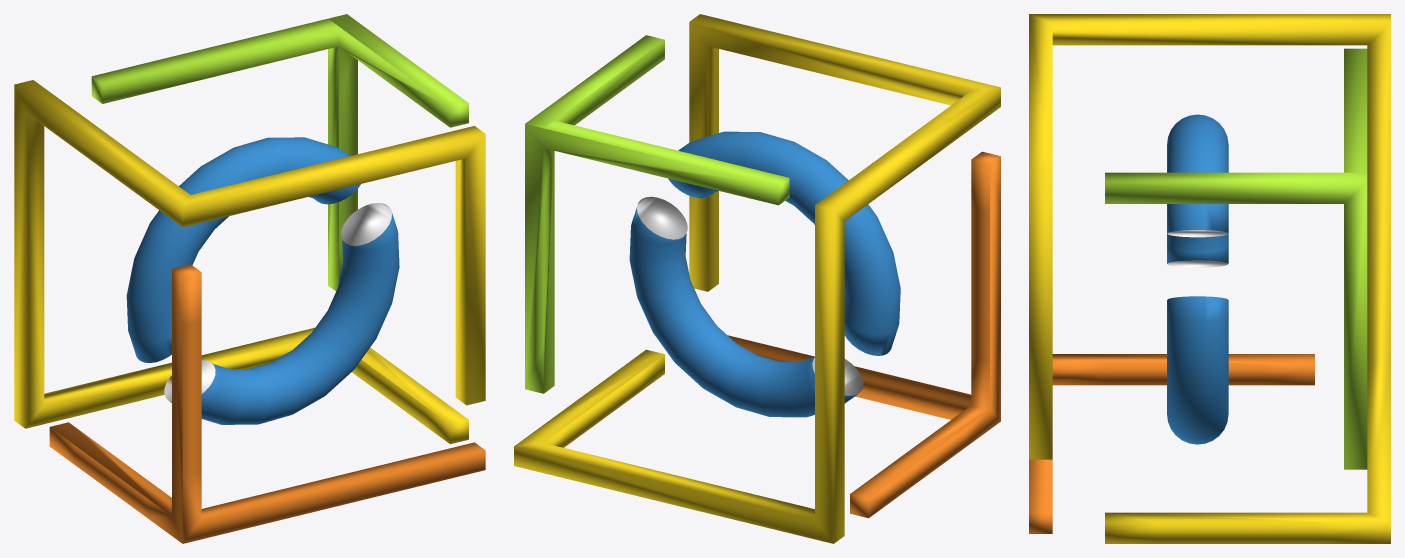
The picture shows the model from 3 angles, left to right: view 1: azimuth 30°, elevation 25°; view 2: azimuth 150°, elevation 25°; view 3: azimuth 270°, elevation 25°; orthographic projection. The views are drawn at different scales.
Visible parts, largest first — view 1: Group_001, Group_003; view 2: Group_001, Group_003; view 3: Group_001, Group_003.
Boxes of the visible parts, x1,y1,x2,y2 form: Group_001: (14, 14, 485, 543); Group_003: (126, 137, 399, 424); Group_001: (514, 14, 1000, 543); Group_003: (629, 131, 900, 417); Group_001: (1029, 14, 1390, 543); Group_003: (1167, 114, 1228, 444).
Size of the model in its own units: 66.99 by 66.93 by 60.71.
